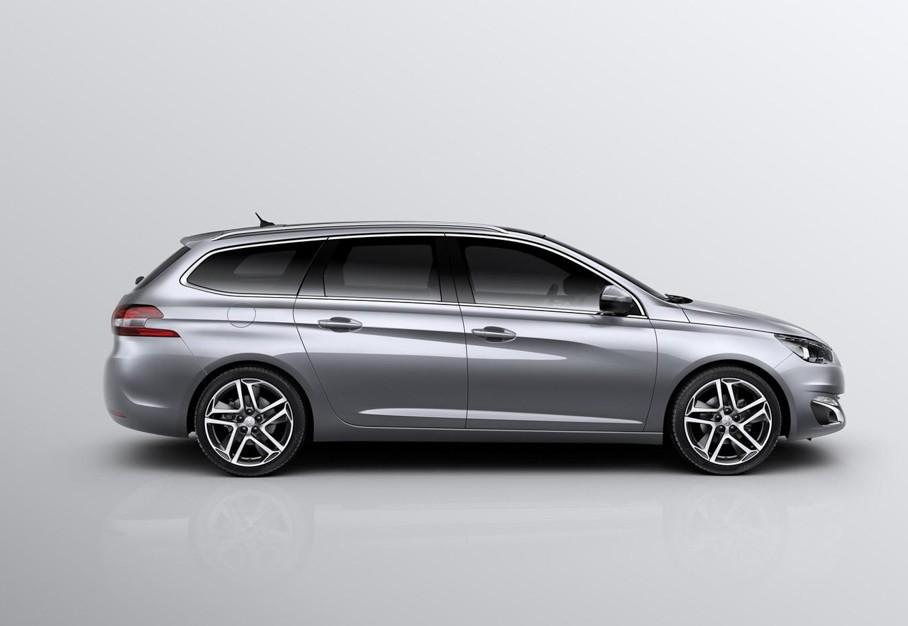Wagon: (102, 220, 846, 479)
